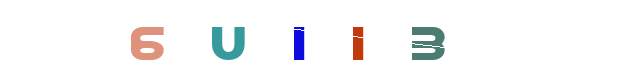1: (274, 0, 354, 80), (290, 0, 370, 80)
3: (318, 0, 398, 80)
6: (111, 0, 191, 80)
U: (258, 0, 338, 80)
